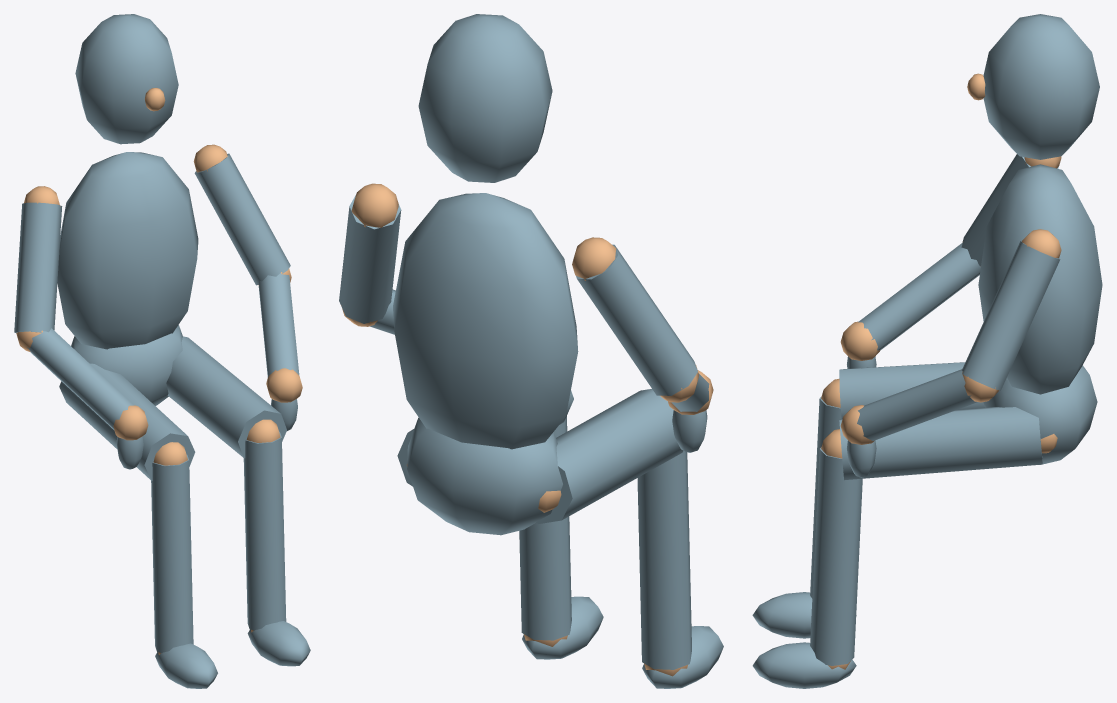
File: pose-seated-3d.glb
3 views of the same model, side by side, from view 1: azimuth 30°, elevation 25°; view 2: azimuth 150°, elevation 25°; view 3: azimuth 270°, elevation 25° (orthographic). The views are drawn at different scales.
Parts seen in each view (by area): view 1: rib-cage, head, left-shin, right-shin, right-thigh, left-upper-arm, right-upper-arm, pelvis, left-forearm, left-thigh, right-forearm, foot-ra (+9 smaller); view 2: rib-cage, head, pelvis, left-shin, left-thigh, left-upper-arm, right-shin, right-upper-arm, foot-ra, foot-la, joint-rs, joint-ls (+2 smaller); view 3: rib-cage, head, right-thigh, right-shin, right-upper-arm, left-forearm, pelvis, right-forearm, left-thigh, foot-ra, foot-la, left-upper-arm (+6 smaller).
Boxes of the visible parts, left/top/right/bottom form: rib-cage: left=57, top=152, right=198, bottom=349; head: left=75, top=14, right=178, bottom=144; left-shin: left=151, top=455, right=193, bottom=652; right-shin: left=243, top=431, right=286, bottom=630; right-thigh: left=166, top=336, right=286, bottom=458; left-upper-arm: left=14, top=202, right=62, bottom=332; right-upper-arm: left=194, top=153, right=290, bottom=285; pelvis: left=71, top=325, right=182, bottom=405; left-forearm: left=27, top=328, right=134, bottom=429; left-thigh: left=59, top=363, right=195, bottom=480; right-forearm: left=258, top=273, right=299, bottom=377; foot-ra: left=247, top=621, right=310, bottom=666; rib-cage: left=393, top=193, right=578, bottom=449; head: left=418, top=14, right=552, bottom=182; pelvis: left=407, top=417, right=562, bottom=535; left-shin: left=637, top=450, right=691, bottom=669; left-thigh: left=536, top=389, right=683, bottom=523; left-upper-arm: left=576, top=244, right=697, bottom=395; right-shin: left=519, top=416, right=571, bottom=640; right-upper-arm: left=339, top=195, right=401, bottom=323; foot-ra: left=522, top=596, right=603, bottom=659; foot-la: left=642, top=626, right=723, bottom=688; joint-rs: left=351, top=183, right=398, bottom=227; joint-ls: left=572, top=237, right=616, bottom=280; rib-cage: left=978, top=164, right=1102, bottom=394; head: left=983, top=14, right=1099, bottom=159; right-thigh: left=839, top=407, right=1042, bottom=480; right-shin: left=810, top=447, right=862, bottom=665; right-upper-arm: left=961, top=241, right=1060, bottom=390; left-forearm: left=858, top=242, right=980, bottom=350; pelvis: left=983, top=365, right=1097, bottom=464; right-forearm: left=857, top=369, right=977, bottom=440; left-thigh: left=839, top=362, right=984, bottom=418; foot-ra: left=752, top=642, right=856, bottom=688; foot-la: left=752, top=592, right=856, bottom=638; left-upper-arm: left=961, top=154, right=1058, bottom=265.
Bounding box in the file's own units: 0.705 × 1.43 × 0.705.
